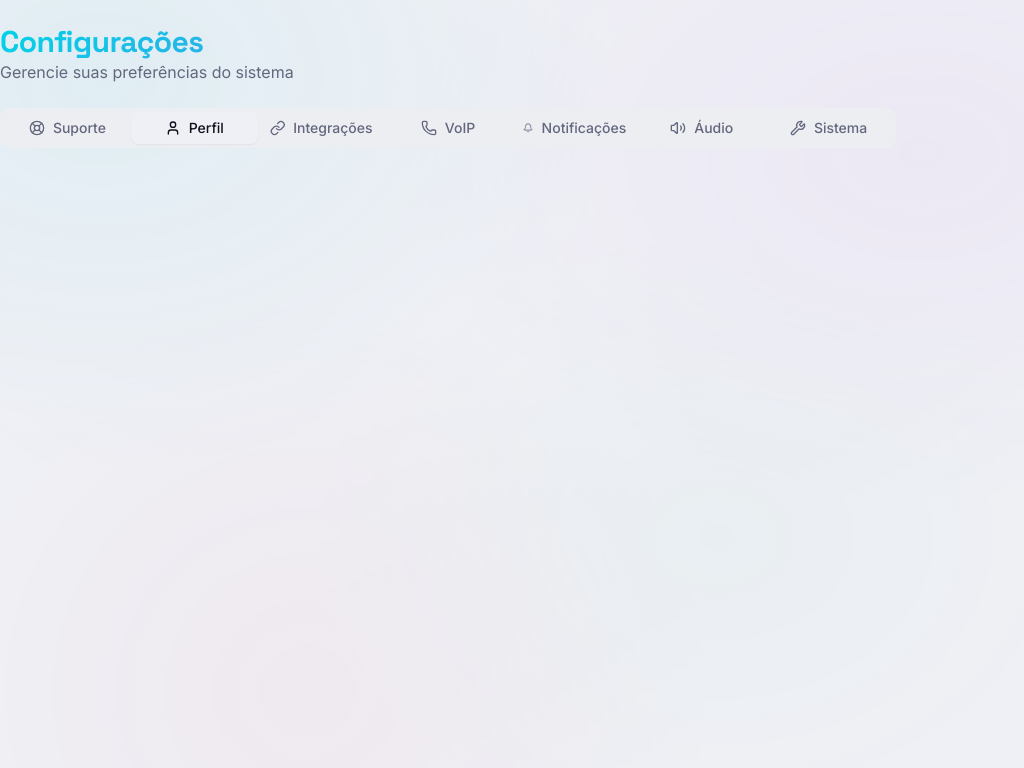
Test: Settings — protecao contra duplo clique ao salvar › desabilita os dois botoes de salvar enquanto a gravacao esta em voo
This screenshot has width=1024, height=768.
Later steps or results of the test are not shown.
Press the mouse on the tab "Notificações" at (575, 128), box [511,112,638,144]
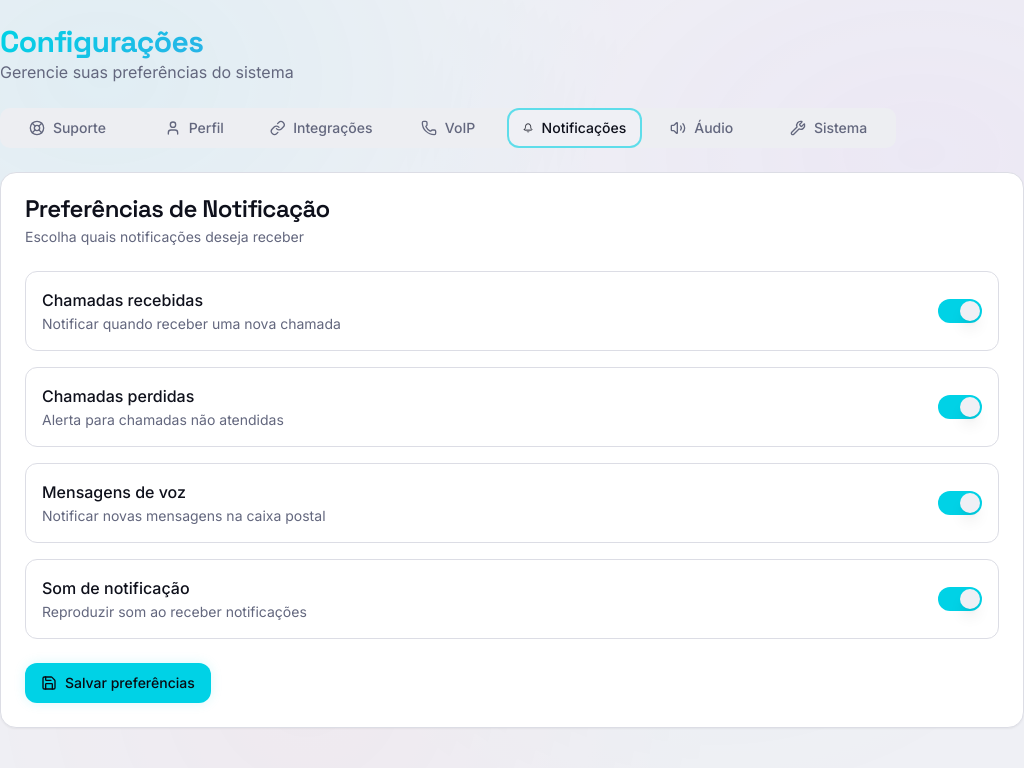
Click the tab "Notificações" at (575, 128), box [511,112,638,144]
Expected: the button "Salvar preferências" is enabled, [25,663,211,703]
